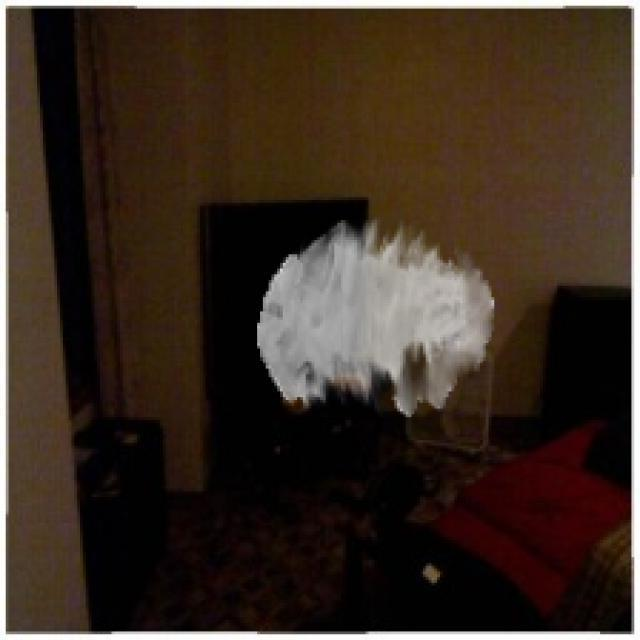Smoke: (257, 217, 494, 417)
